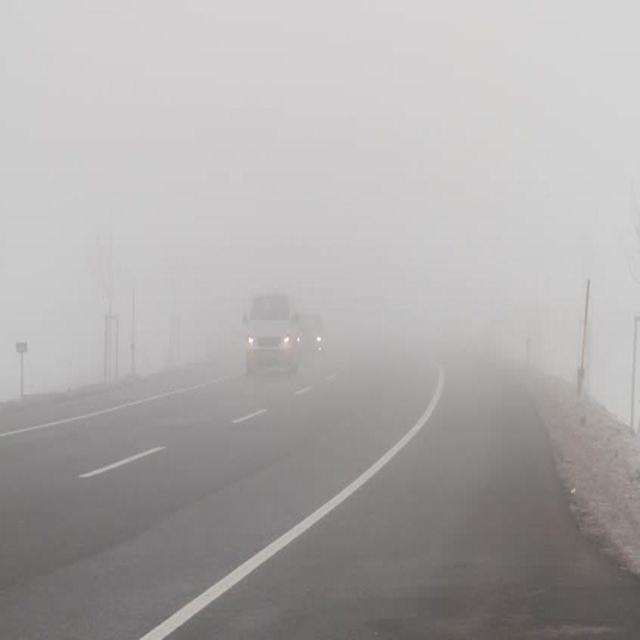Car: (292, 307, 324, 362)
Van: (239, 292, 301, 374)
